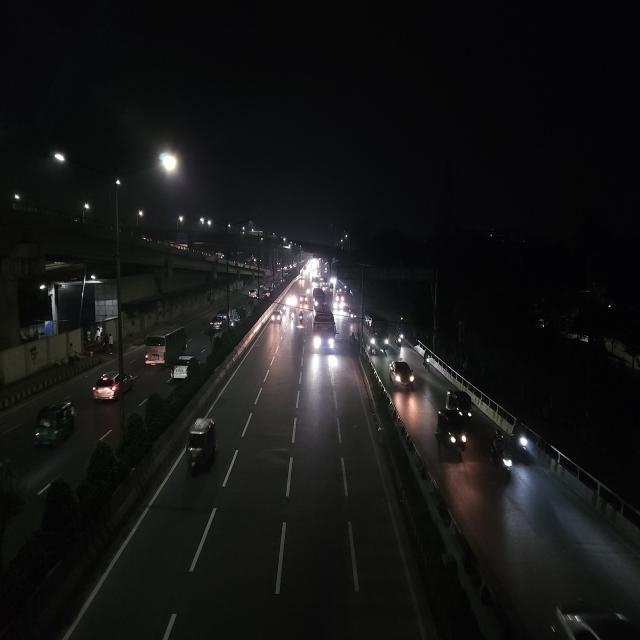bus: (141, 324, 189, 365), (311, 303, 337, 356), (364, 315, 390, 350)
car: (31, 395, 79, 454), (91, 367, 137, 406), (387, 357, 418, 395), (171, 352, 199, 382), (208, 314, 228, 332), (272, 306, 284, 325), (261, 285, 271, 298), (248, 288, 258, 300)
cng: (181, 414, 223, 482), (434, 406, 470, 455), (444, 387, 476, 421), (289, 308, 297, 322)
motorcycle: (488, 430, 516, 484), (513, 425, 532, 459), (421, 350, 433, 373), (395, 333, 405, 353), (298, 311, 306, 328)
